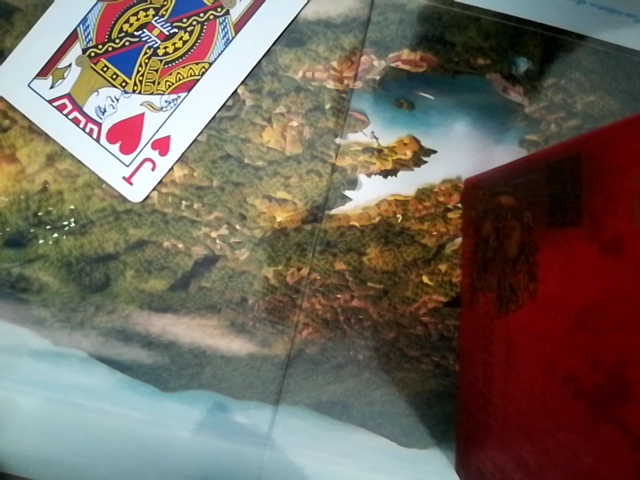hx j: (0, 1, 334, 209)
